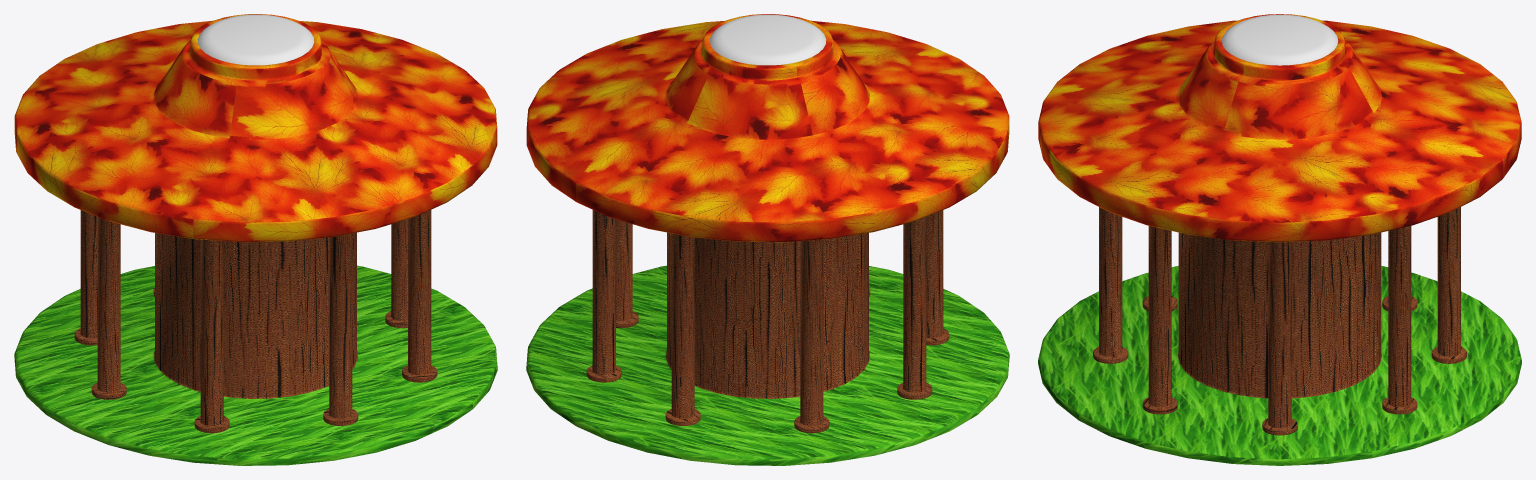
Rendered from Thing.fbx.
3 renders of one model, left to right at view 1: azimuth 30°, elevation 25°; view 2: azimuth 150°, elevation 25°; view 3: azimuth 270°, elevation 25°, orthographic.
Visible parts, largest first — view 1: Thing, Glass; view 2: Thing, Glass; view 3: Thing, Glass.
Boxes of the visible parts, bbox=[...] form: Thing: bbox=[14, 14, 497, 465]; Glass: bbox=[197, 14, 314, 65]; Thing: bbox=[526, 14, 1009, 465]; Glass: bbox=[709, 14, 826, 65]; Thing: bbox=[1038, 14, 1521, 465]; Glass: bbox=[1221, 14, 1338, 65].
Size of the model in its own units: 200 by 150 by 200.
5 materials, 3 textured.
